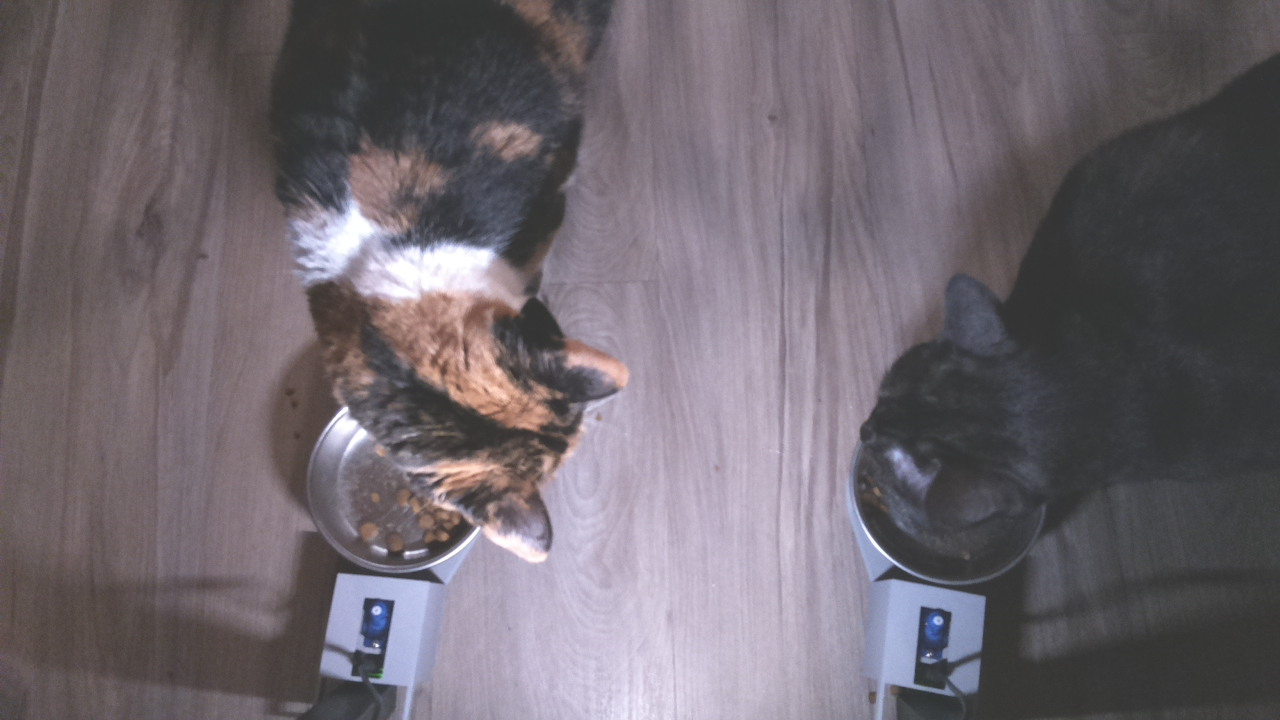bella_eating: (297, 283, 632, 576)
saki_eating: (839, 272, 1073, 593)
